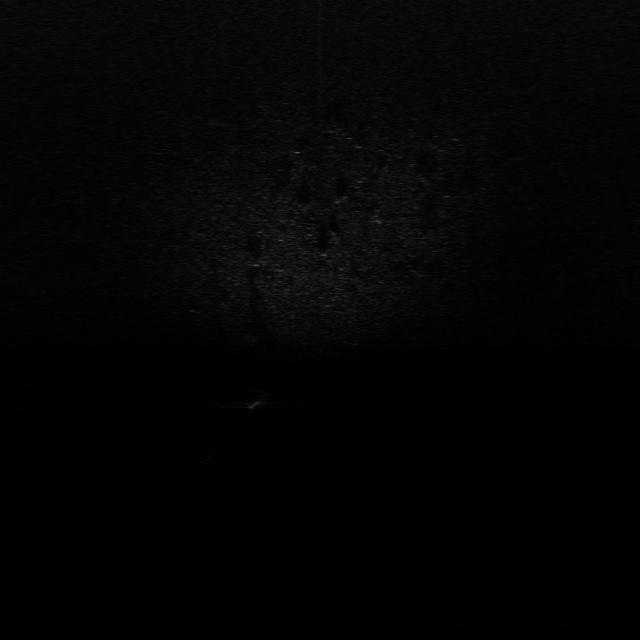human body: (228, 386, 282, 420)
